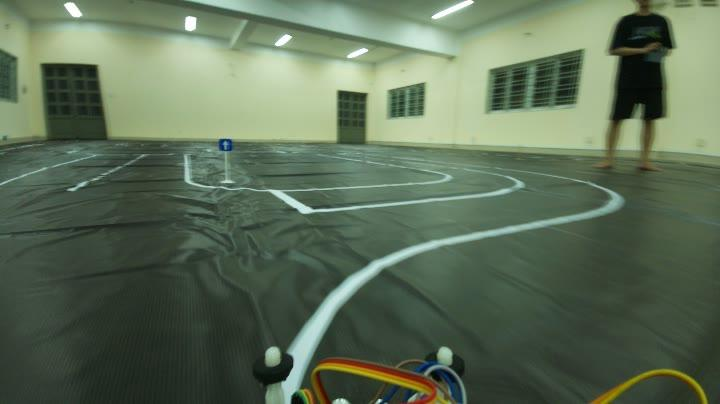onewayroad: (215, 136, 233, 154)
